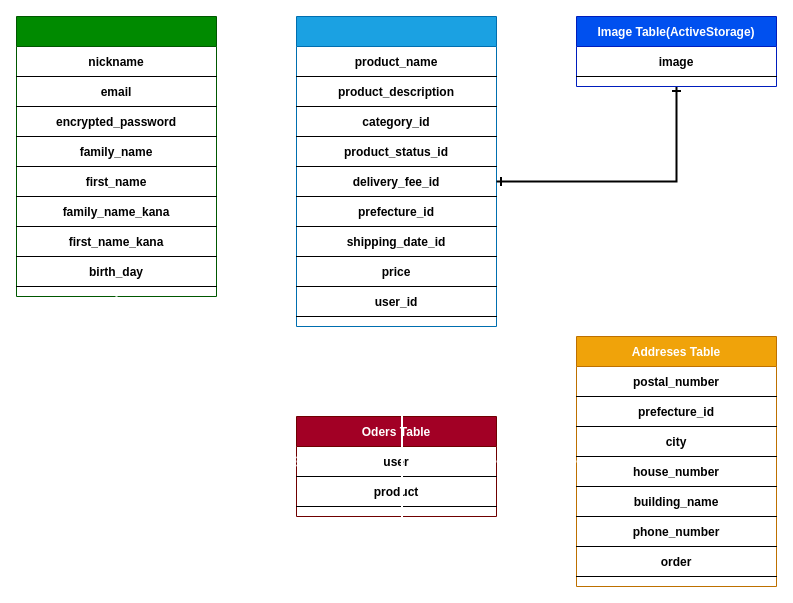
The diagram is 793 pixels wide and 603 high, and some of its shapes have lost their labels. Here are the shapes that lost their labels. From the top down, the box of each, then its label:
(16, 16, 216, 296): Users Table
(296, 16, 496, 326): Products Table
